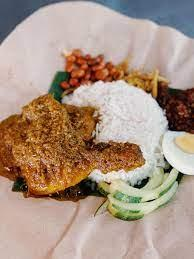Anchovies: (113, 59, 167, 99)
Boiled-Egg: (162, 130, 194, 176)
Cucumber: (107, 168, 178, 221)
Peanuts: (60, 49, 124, 89)
Rendang-Chicken: (3, 94, 146, 197)
Rice: (61, 82, 168, 184)
Sambal: (158, 85, 194, 133)
